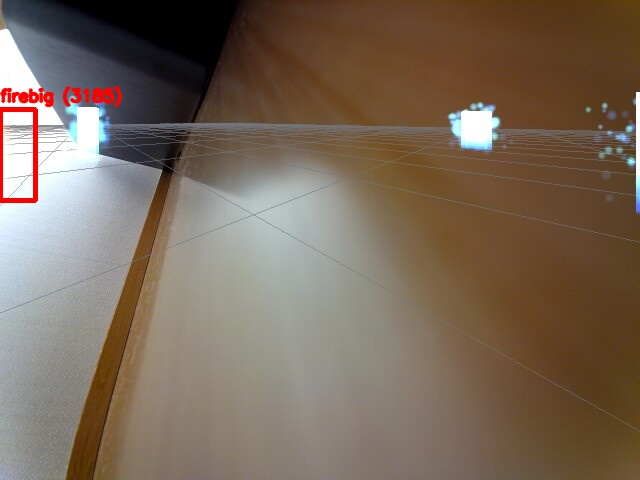firebig: (0, 109, 35, 200)
